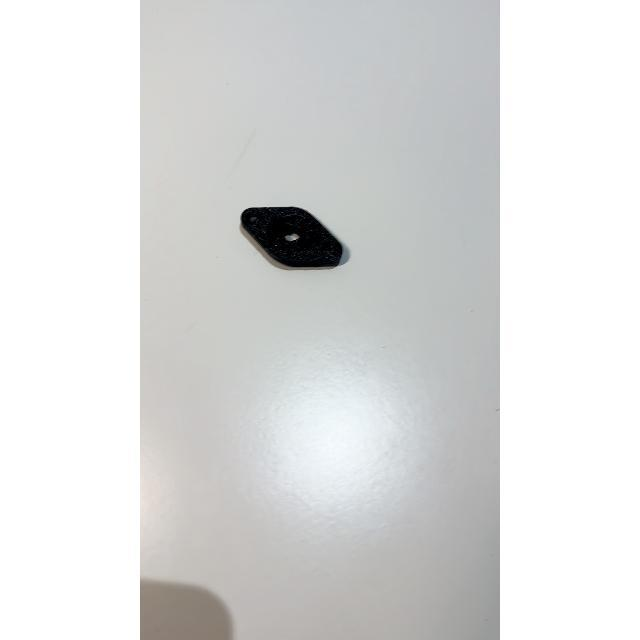Pieza2: (227, 194, 355, 282)
